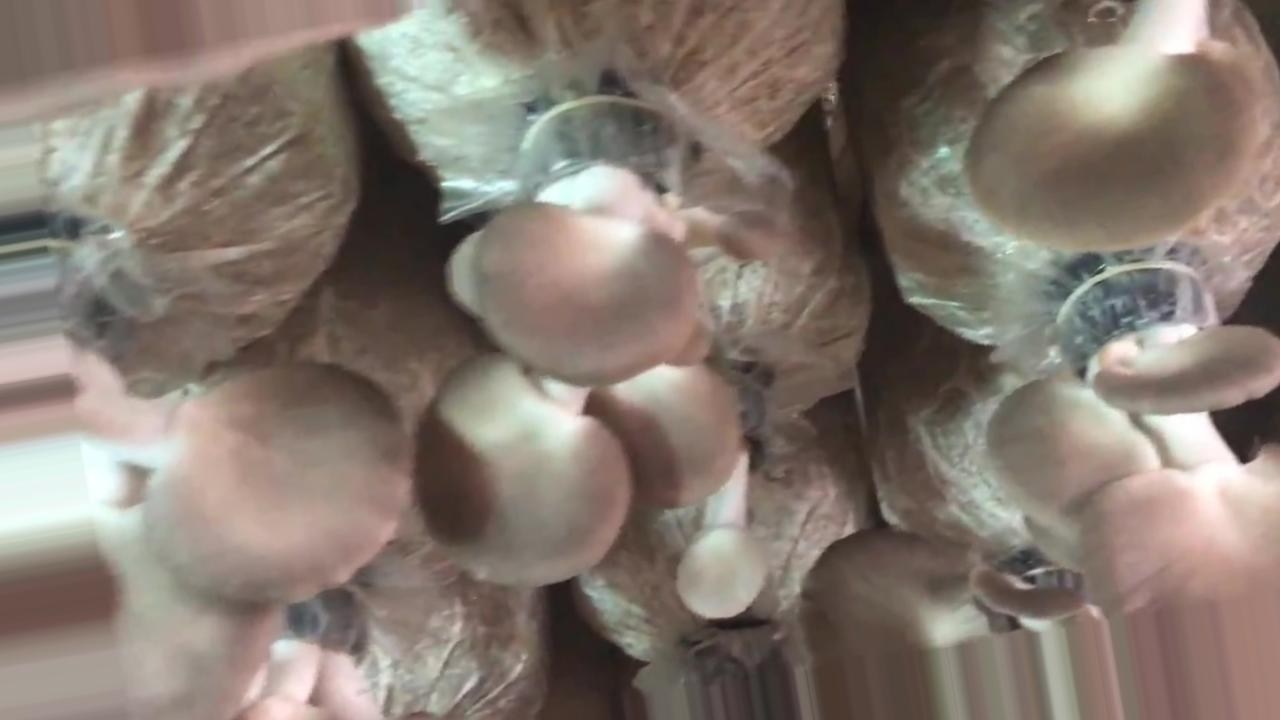nam: (802, 273, 1279, 718), (1, 225, 405, 720), (413, 97, 776, 588), (967, 1, 1255, 250)
